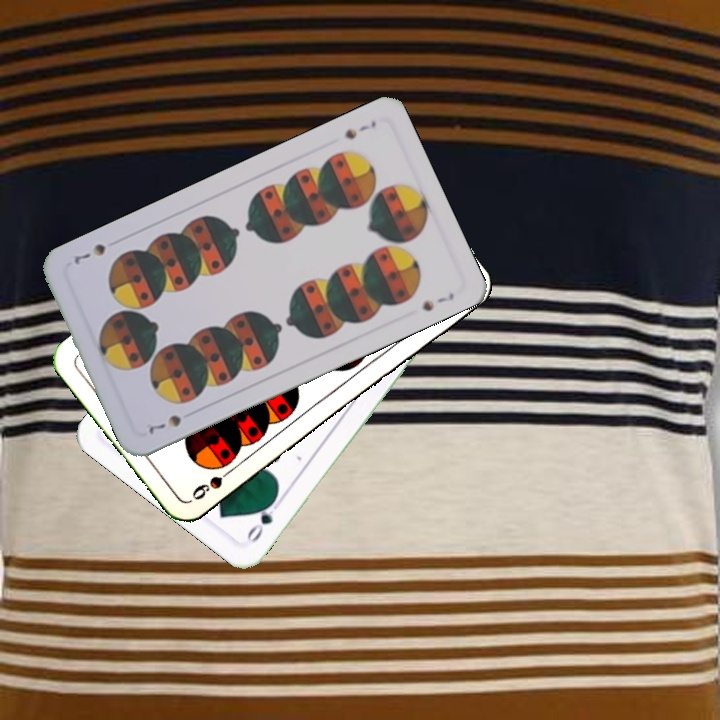GO: (241, 493, 280, 546)
S7: (144, 410, 184, 437), (340, 116, 379, 142)
S9: (188, 462, 239, 503)
